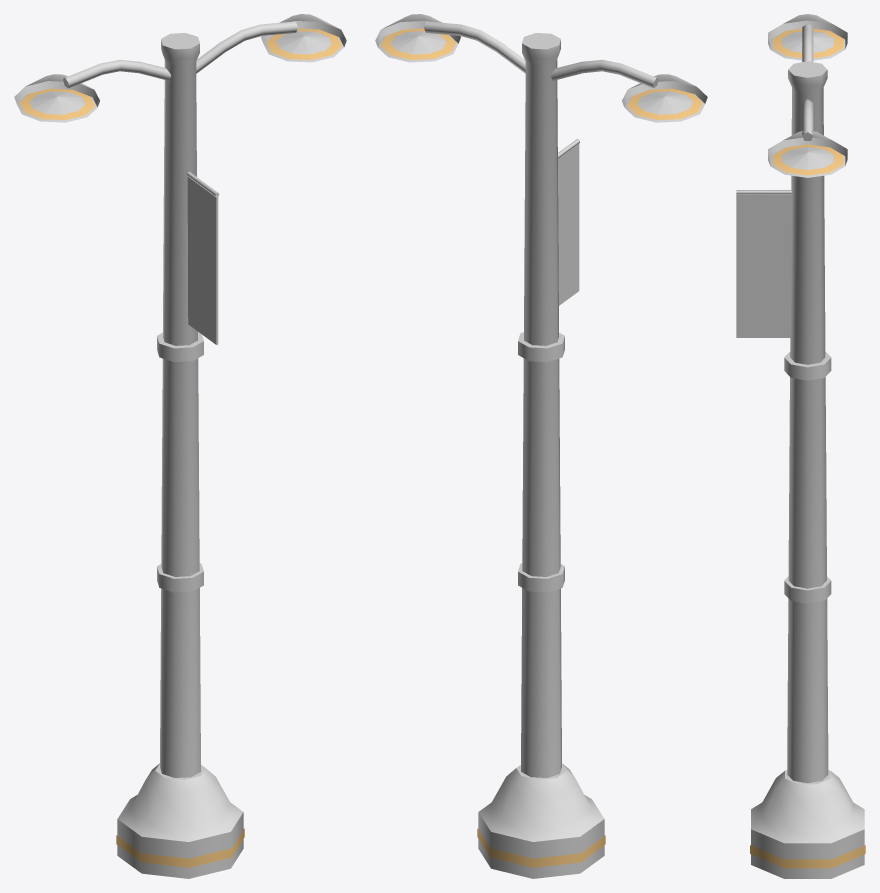
File: PlazaLamp.glb
3 views of the same model, side by side, from view 1: azimuth 30°, elevation 25°; view 2: azimuth 150°, elevation 25°; view 3: azimuth 270°, elevation 25° (orthographic). The views are drawn at different scales.
Parts seen in each view (by area): view 1: Body, Glow; view 2: Body, Glow; view 3: Body, Glow.
Boxes of the visible parts, <box> form: Body: <box>14,14,346,878</box>; Glow: <box>19,28,341,867</box>; Body: <box>375,14,707,878</box>; Glow: <box>380,28,702,867</box>; Body: <box>736,14,864,878</box>; Glow: <box>750,28,865,868</box>.
Bounding box in the file's own units: 7.3 × 17.6 × 2.62.
